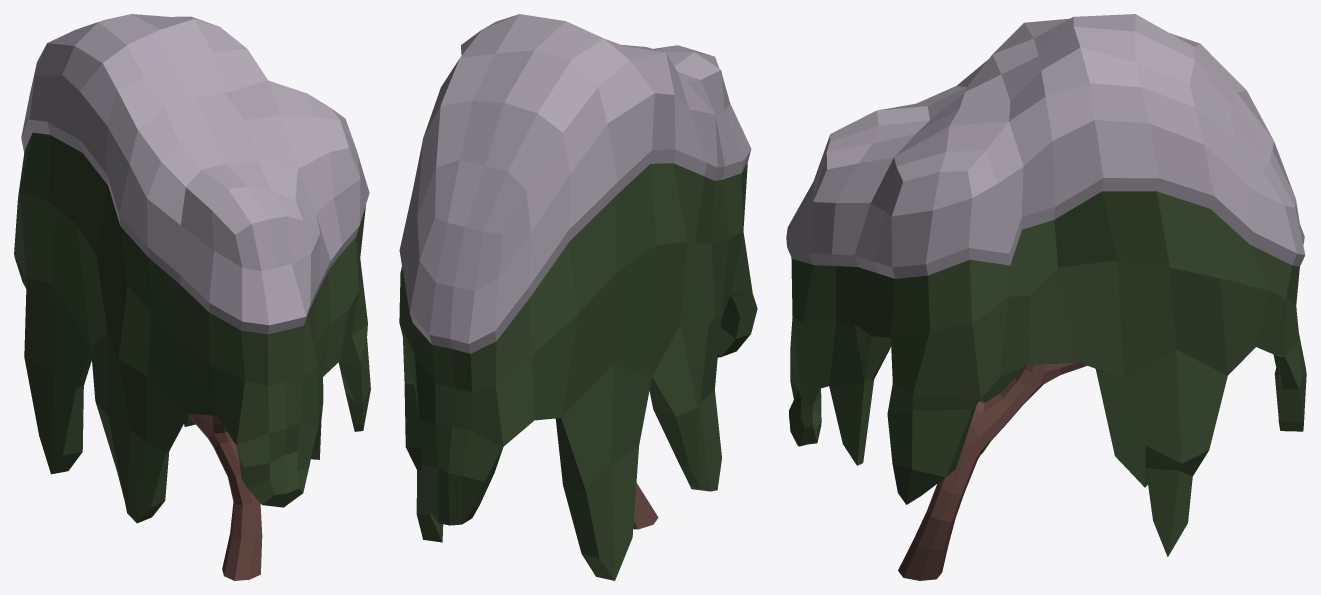
The model's file is willow_snow1.glb.
3 views of the same model, side by side, from view 1: azimuth 30°, elevation 25°; view 2: azimuth 150°, elevation 25°; view 3: azimuth 270°, elevation 25° (orthographic). The views are drawn at different scales.
Visible parts, largest first — view 1: Willow_Snow_1; view 2: Willow_Snow_1; view 3: Willow_Snow_1.
Boxes of the visible parts, x1=… form: Willow_Snow_1: x1=14, y1=14, x2=370, y2=580; Willow_Snow_1: x1=399, y1=14, x2=757, y2=580; Willow_Snow_1: x1=786, y1=14, x2=1306, y2=580.
Size of the model in its own units: 1.45 by 2.93 by 2.57.
